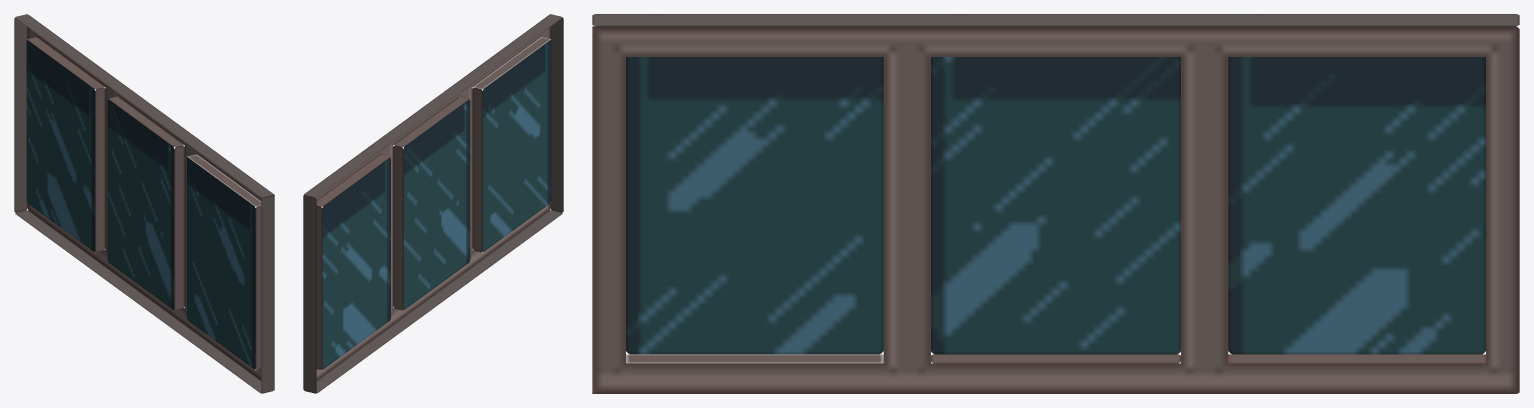
The model's file is WindowBrown3.fbx.
3 views of the same model, side by side, from view 1: azimuth 30°, elevation 25°; view 2: azimuth 150°, elevation 25°; view 3: azimuth 270°, elevation 25° (orthographic). The views are drawn at different scales.
Visible parts, largest first — view 1: plane; view 2: plane; view 3: plane.
Boxes of the visible parts, x1,y1,x2,y2 form: plane: [14, 14, 274, 393]; plane: [303, 14, 563, 393]; plane: [592, 14, 1519, 393].
Bounding box in the file's own units: 6.25 × 87.5 × 200.
Materials: 1 (1 with a texture image).
